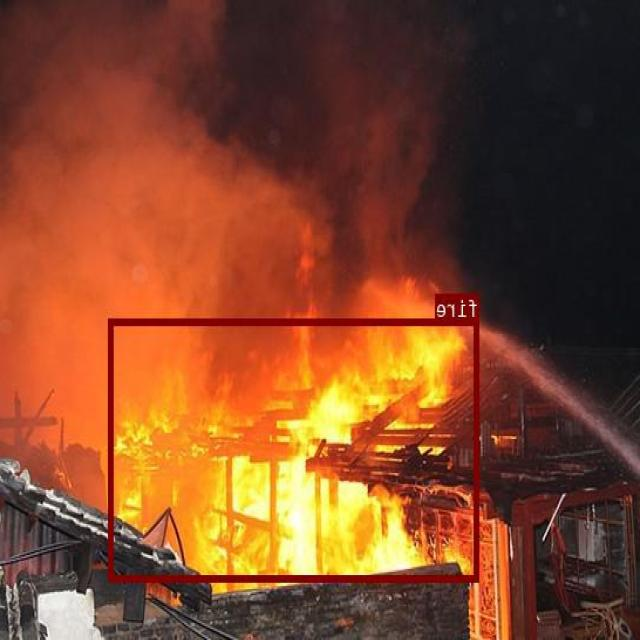fire: (109, 318, 480, 581)
